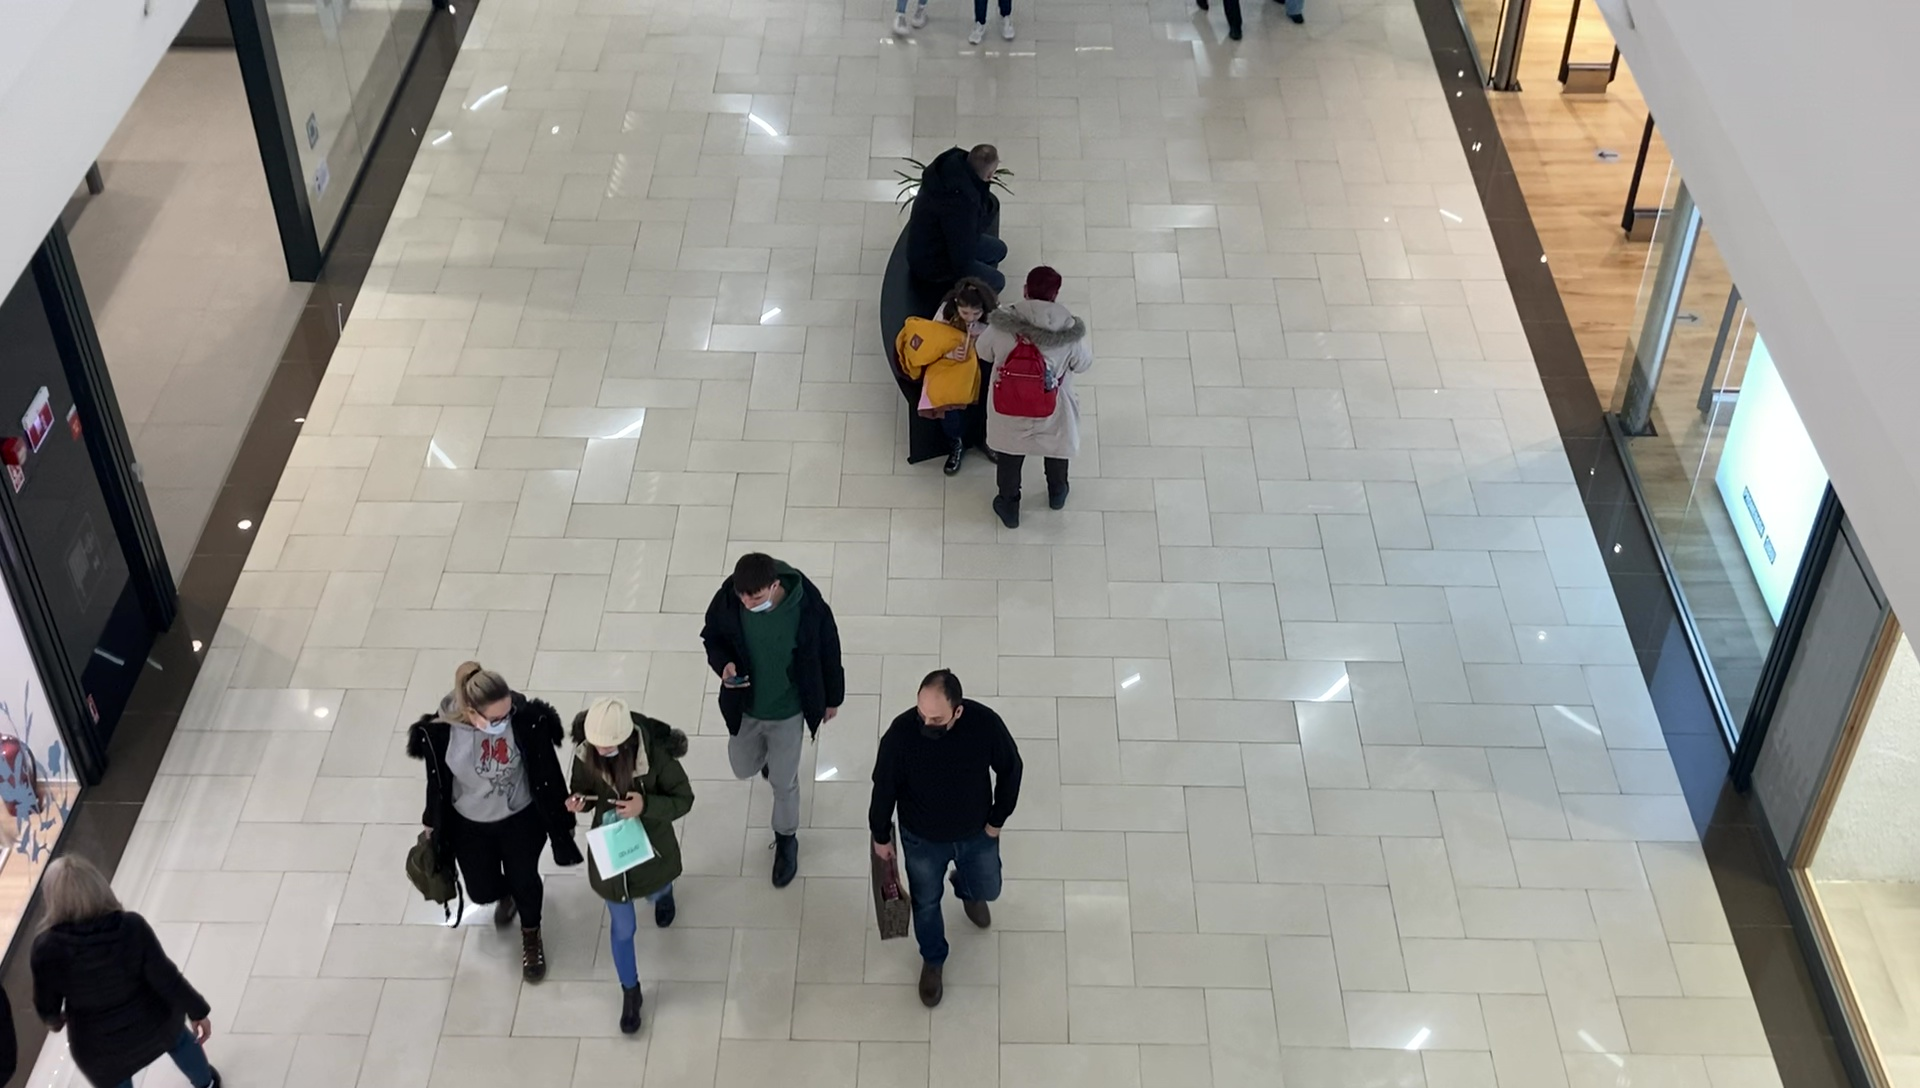person: (870, 672, 1026, 1009), (408, 664, 570, 979), (701, 553, 847, 889), (29, 852, 218, 1088), (563, 699, 690, 1036)
